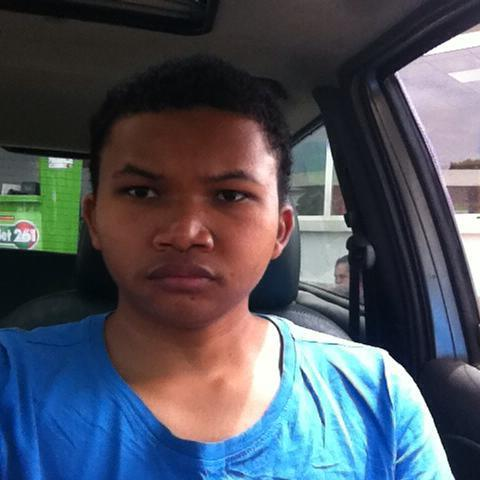BOY: (76, 56, 303, 333)
